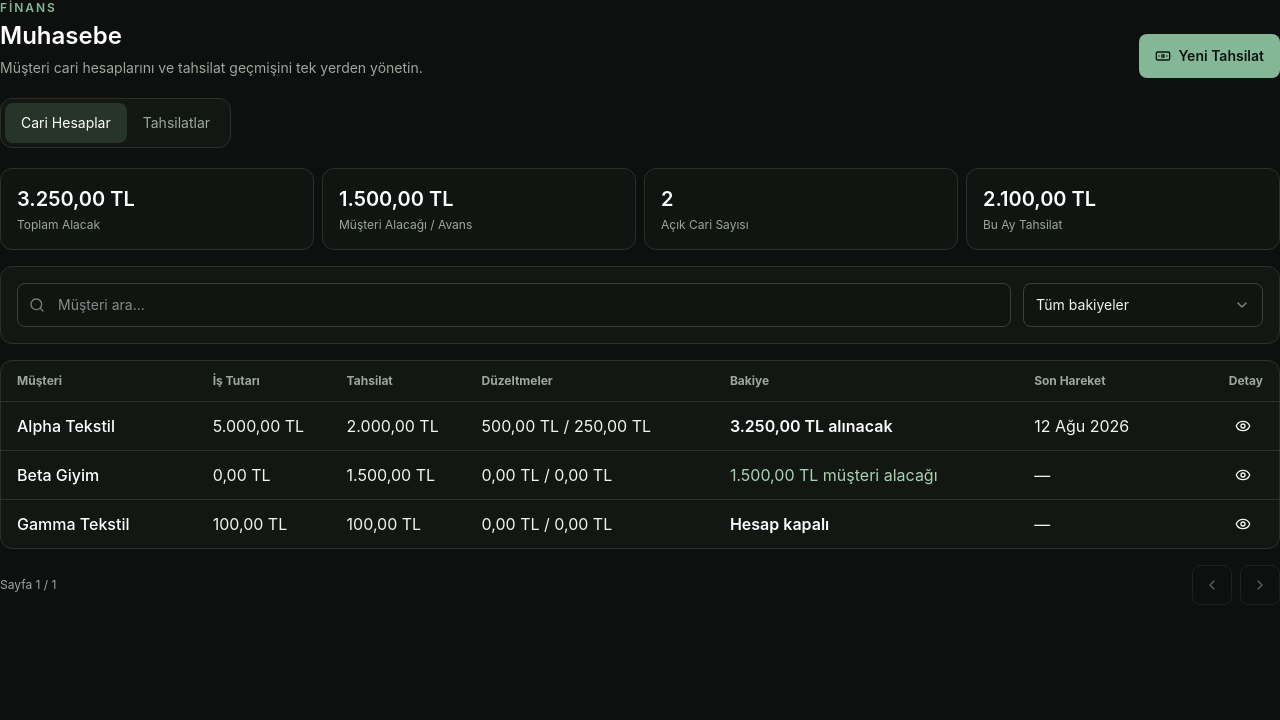
Test: FinancePage › fazla tahsilatı UI seviyesinde engellemez ve açıklayıcı bilgi gösterir
Click the button "Yeni Tahsilat".
click(1209, 56)  # box x1=1138 y1=34 x2=1279 y2=78
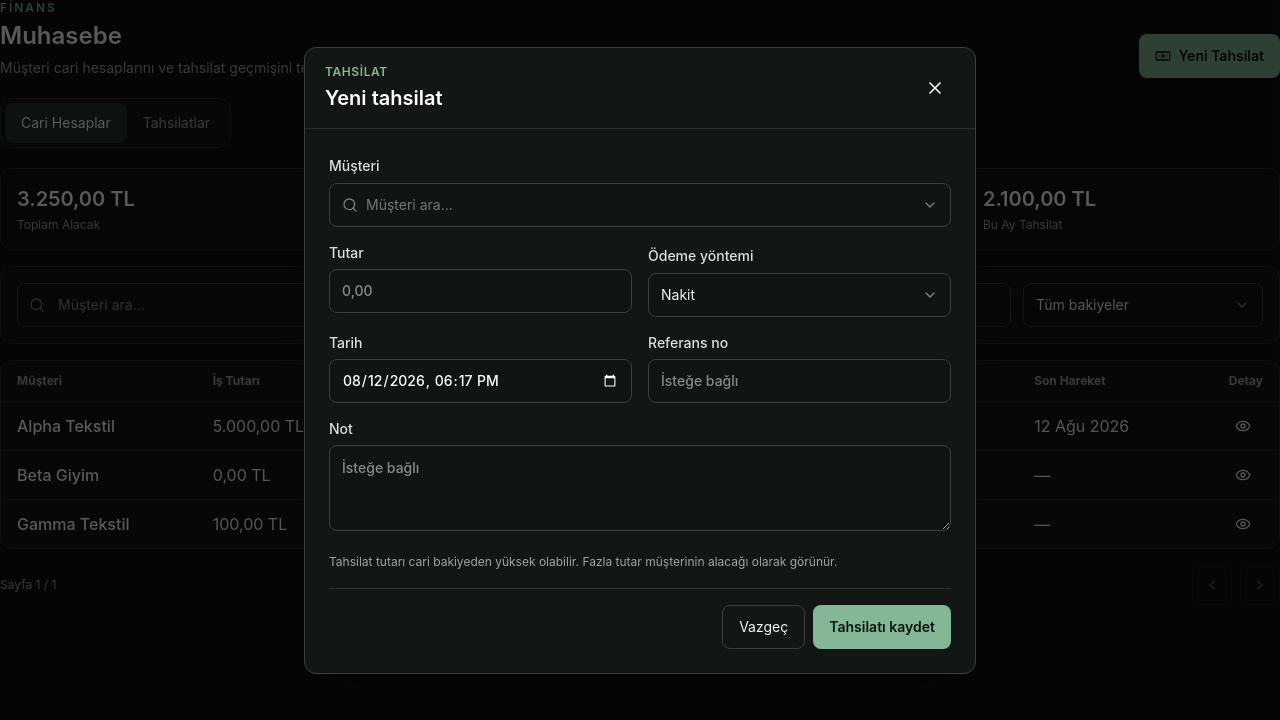
Expected: the text "Fazla tutar müşterinin alacağı" is shown, x1=329 y1=554 x2=837 y2=568
Expected: the button "Tahsilatı kaydet" is enabled, x1=813 y1=604 x2=951 y2=648
